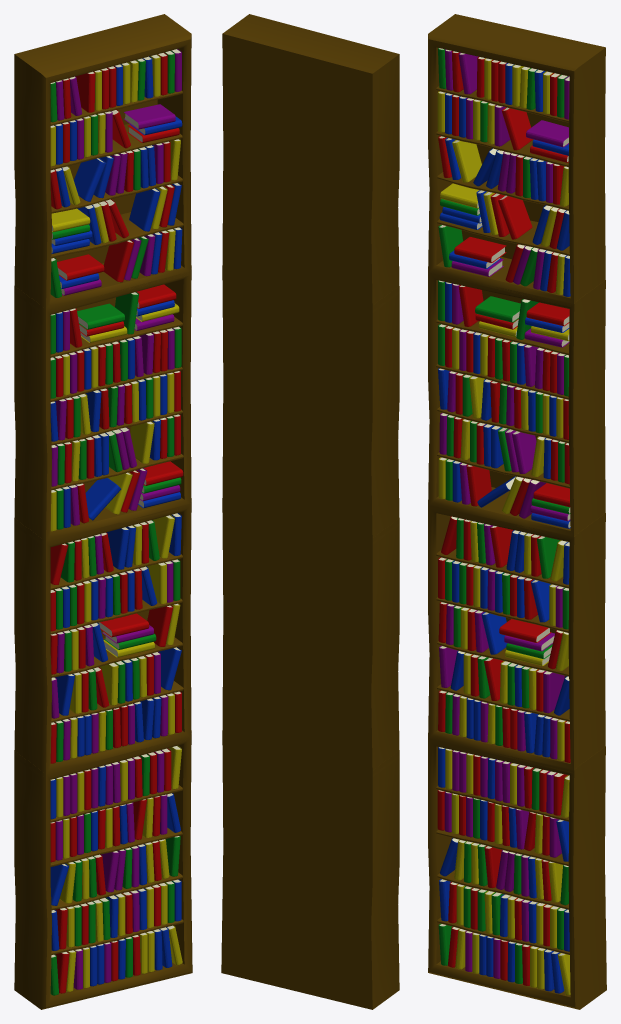
File: bookshelf_0.fbx
The picture shows the model from 3 angles, left to right: view 1: azimuth 30°, elevation 25°; view 2: azimuth 150°, elevation 25°; view 3: azimuth 330°, elevation 25°; orthographic projection.
Parts seen in each view (by area): view 1: books, shelf; view 2: shelf; view 3: books, shelf.
Part boxes in pixels (bbox=[...]): books: bbox=[50, 49, 183, 995]; shelf: bbox=[14, 14, 192, 1009]; shelf: bbox=[221, 14, 399, 1009]; books: bbox=[437, 48, 570, 995]; shelf: bbox=[428, 14, 606, 1009].
Bounding box in the file's own units: 94.85 × 563 × 31.41.
